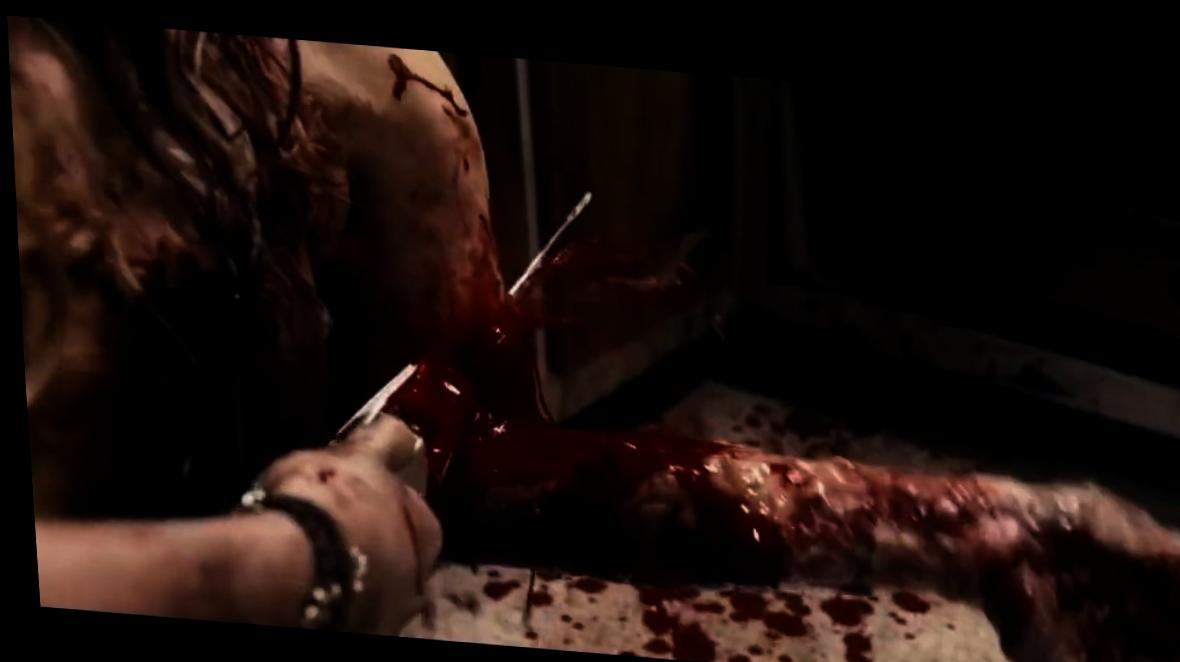Fire: (377, 46, 1180, 662)
